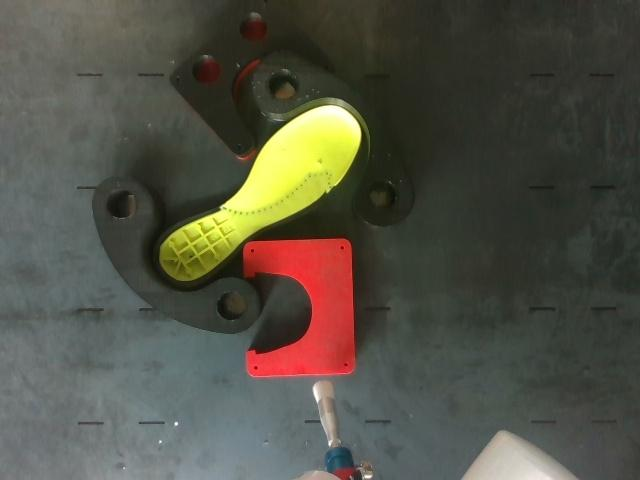shoes: (154, 106, 362, 286)
